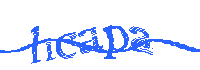a: (77, 27, 105, 55), (130, 24, 154, 55)
c: (54, 30, 78, 60)
h: (30, 24, 53, 62)
p: (104, 25, 129, 61)
